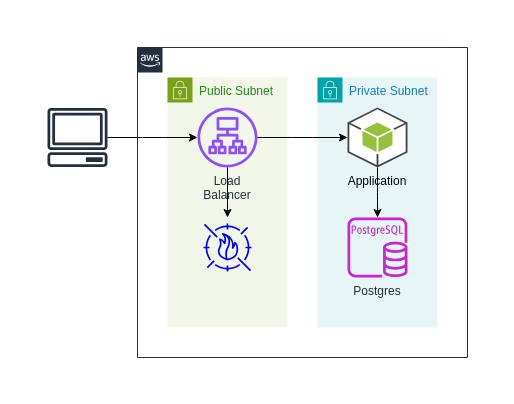
This 514x404 diagram has some shape labels left out. Here are the shapes that lost their labels. From the top down, the box of each, then its label:
(47, 107, 107, 167): Client
(136, 46, 468, 358): Cloud
(196, 216, 258, 278): Firewall
